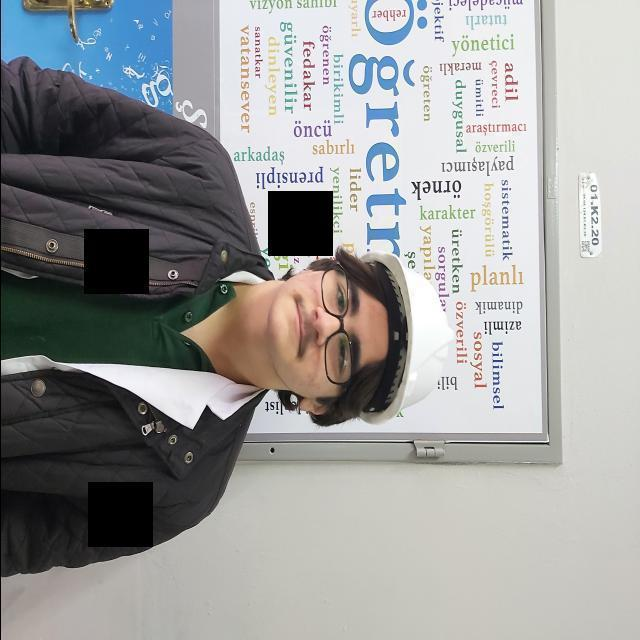helmet: (344, 207, 466, 452)
